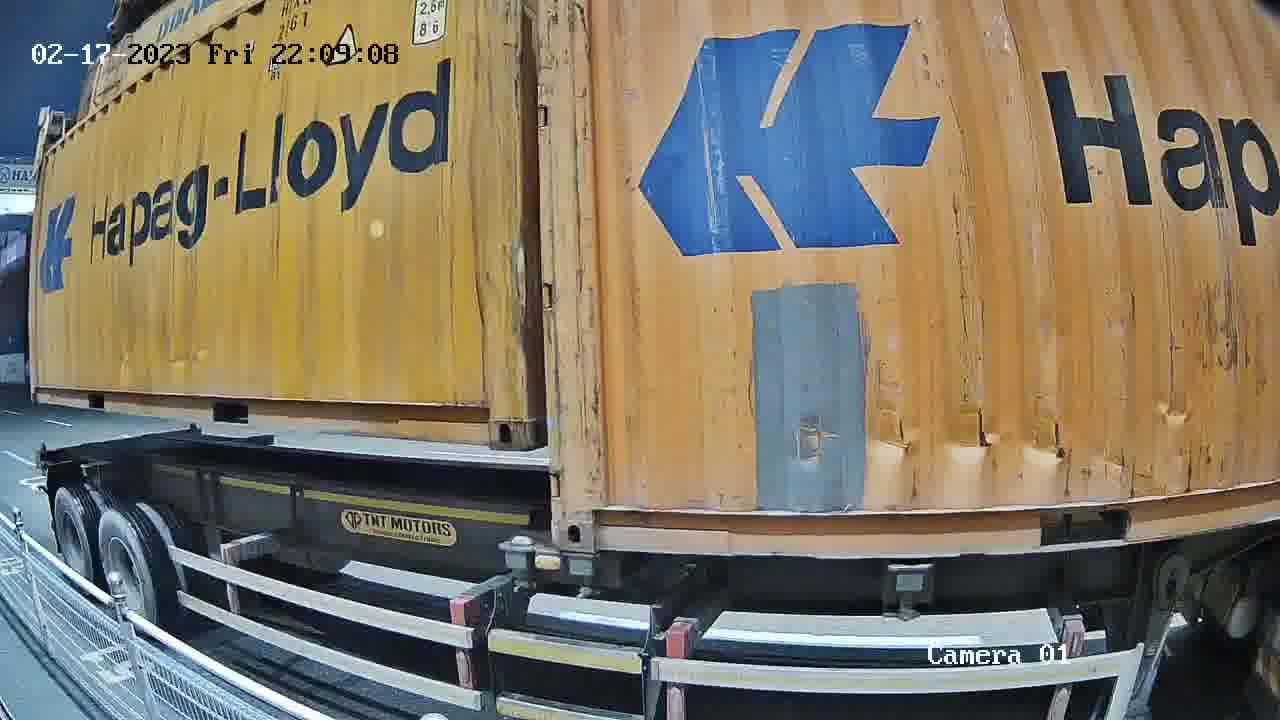Cone: (498, 536, 539, 592), (557, 552, 604, 599)
Hole_L: (553, 480, 640, 551)
Hole_R: (457, 384, 531, 452)
Tire: (100, 510, 165, 634), (53, 489, 99, 594)
